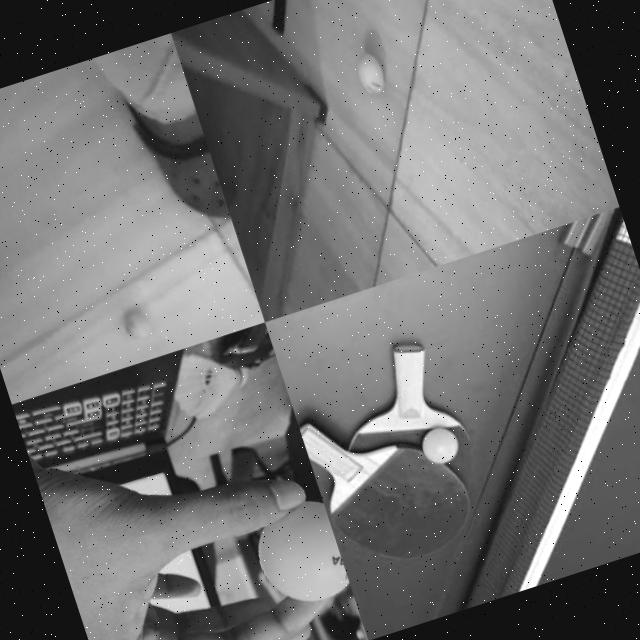ping-pong-ball: (240, 492, 350, 616), (416, 424, 461, 468), (352, 50, 387, 97), (120, 307, 150, 339)
